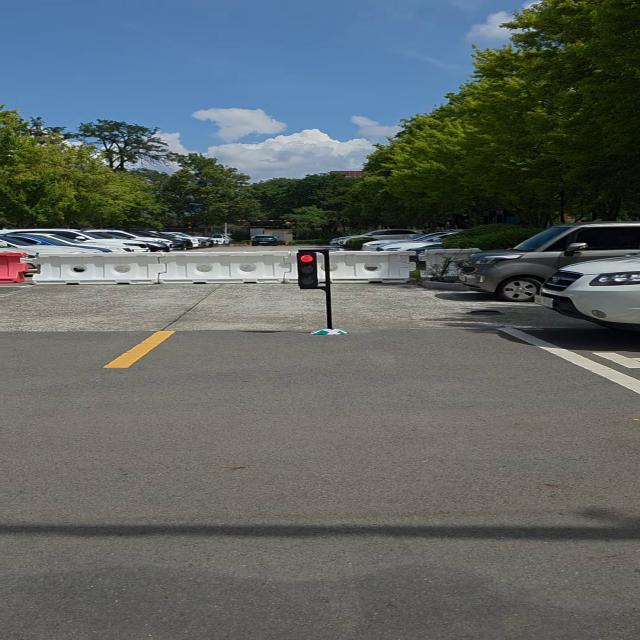red: (293, 250, 323, 291)
